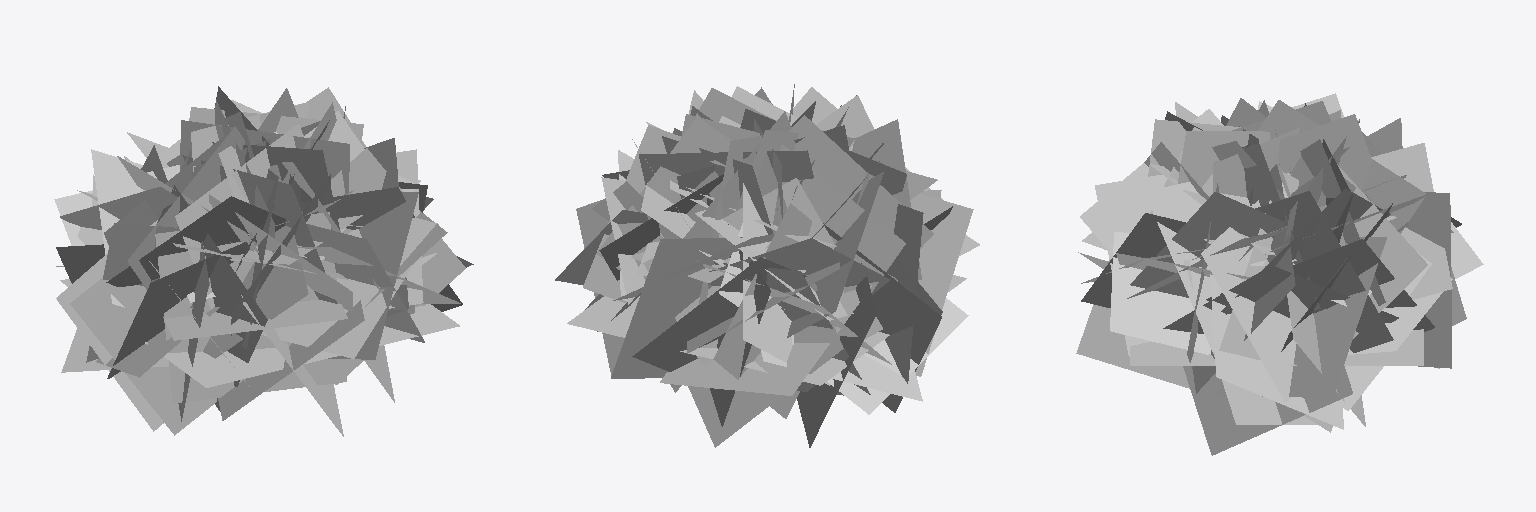
File: bush_large.obj
3 views of the same model, side by side, from view 1: azimuth 30°, elevation 25°; view 2: azimuth 150°, elevation 25°; view 3: azimuth 270°, elevation 25° (orthographic).
Visible parts, largest first — view 1: bush_large; view 2: bush_large; view 3: bush_large.
Boxes of the visible parts, <box> form: bush_large: <box>54,86,473,436</box>; bush_large: <box>555,84,979,447</box>; bush_large: <box>1076,93,1483,455</box>.
Bounding box in the file's own units: 2.95 × 2.23 × 2.77.